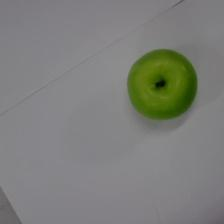green: (127, 49, 197, 120)
